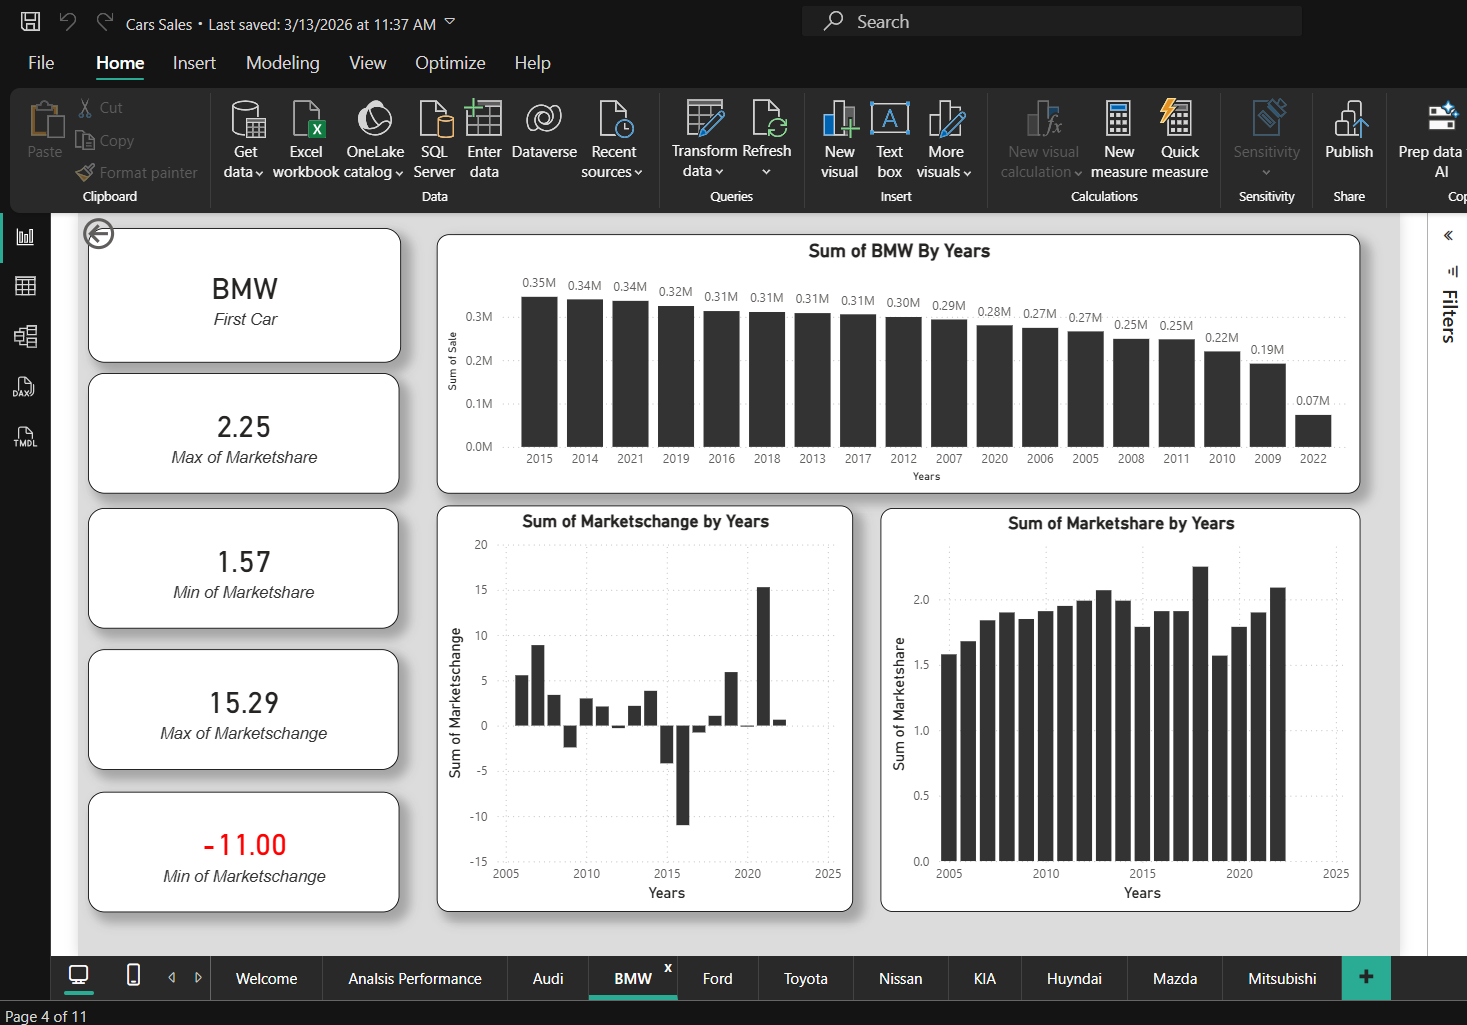

Layout of this report page (visuals, bound fields, positions):
{"tool":"powerbi","page":{"name":"BMW","canvas":[1280,720],"ordinal":3},"visuals":[{"type":"card","fields":{"Values":["Min(CAR SALES GLOBALY.Car)"]},"box":[9.6,15.1,303.3,130.4],"z":0},{"type":"card","fields":{"Values":["Max(CAR SALES GLOBALY.Marketshare)"]},"box":[9.6,155.1,301.9,116.6],"z":1000},{"type":"card","fields":{"Values":["Min(CAR SALES GLOBALY.Marketshare)"]},"box":[9.6,285.4,300.5,116.6],"z":2000},{"type":"card","fields":{"Values":["Min(CAR SALES GLOBALY.Marketschange)"]},"box":[9.6,559.9,301.9,116.6],"z":3000},{"type":"card","fields":{"Values":["Max(CAR SALES GLOBALY.Marketschange)"]},"box":[9.6,422.6,300.5,116.6],"z":4000},{"type":"actionButton","box":[0,0,100,40],"z":5000},{"type":"columnChart","title":"Sum of BMW By Years","fields":{"Category":["CAR SALES GLOBALY.Years"],"Y":["Sum(CAR SALES GLOBALY.Sale)"]},"box":[347.2,20.6,894.7,251.1],"z":6000},{"type":"lineStackedColumnComboChart","fields":{"Category":["CAR SALES GLOBALY.Years"],"Y":["Sum(CAR SALES GLOBALY.Marketschange)"]},"box":[347.2,282.7,403.4,393.8],"z":7000},{"type":"lineStackedColumnComboChart","fields":{"Category":["CAR SALES GLOBALY.Years"],"Y":["Sum(CAR SALES GLOBALY.Marketshare)"]},"box":[776.7,285.4,465.2,391.1],"z":8000}]}

Visuals, with their boxes on the page's 1280x720 design canvas (x1, y1, x2, y2). These are canvas units, not pixel positions in the 1467x1025 screenshot, which may show the page scaled, cropped or inside an application window:
card - Min(CAR SALES GLOBALY.Car): [10,15,313,146]
card - Max(CAR SALES GLOBALY.Marketshare): [10,155,312,272]
card - Min(CAR SALES GLOBALY.Marketshare): [10,285,310,402]
card - Min(CAR SALES GLOBALY.Marketschange): [10,560,312,676]
card - Max(CAR SALES GLOBALY.Marketschange): [10,423,310,539]
actionButton: [0,0,100,40]
"Sum of BMW By Years" columnChart: [347,21,1242,272]
lineStackedColumnComboChart - CAR SALES GLOBALY.Years x Sum(CAR SALES GLOBALY.Marketschange): [347,283,751,676]
lineStackedColumnComboChart - CAR SALES GLOBALY.Years x Sum(CAR SALES GLOBALY.Marketshare): [777,285,1242,676]
